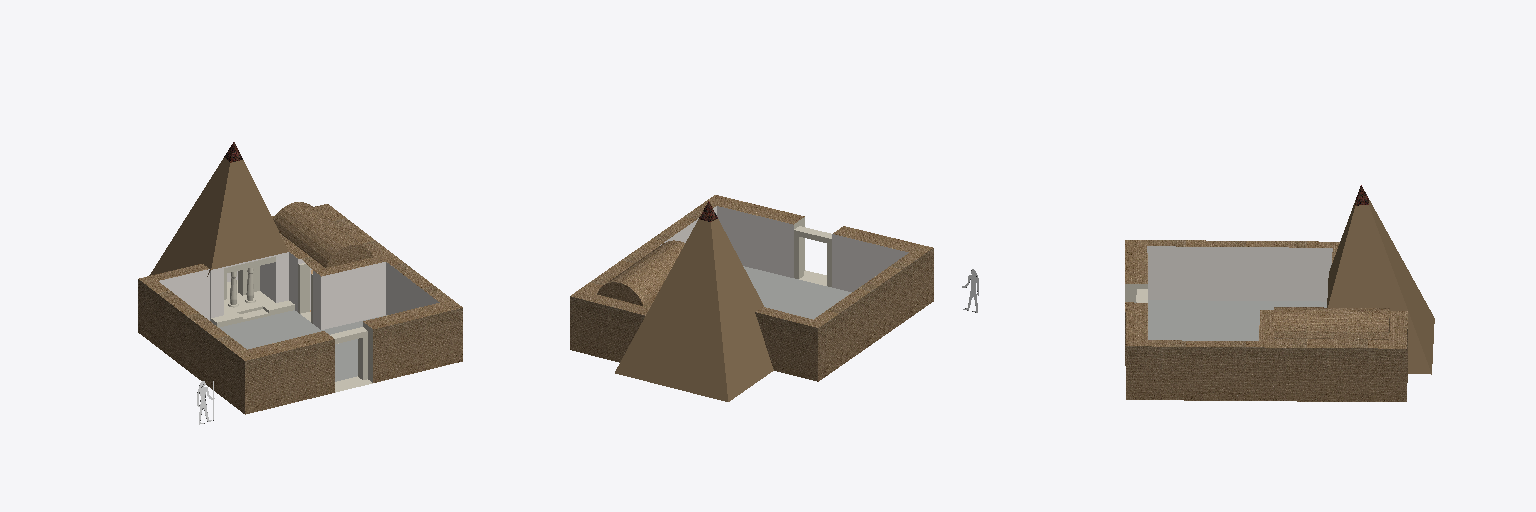
3 views of the same model, side by side, from view 1: azimuth 30°, elevation 25°; view 2: azimuth 150°, elevation 25°; view 3: azimuth 270°, elevation 25° (orthographic).
Parts seen in each view (by area): view 1: Mesh7 Model, Mesh1 Vault1 Model; view 2: Mesh7 Model, Mesh1 Vault1 Model; view 3: Mesh7 Model, Mesh1 Vault1 Model.
Boxes of the visible parts, box(x1,y1,x2,y2) form: Mesh7 Model: box(138, 142, 462, 414); Mesh1 Vault1 Model: box(273, 202, 373, 267); Mesh7 Model: box(570, 195, 933, 401); Mesh1 Vault1 Model: box(597, 240, 684, 305); Mesh7 Model: box(1125, 185, 1434, 401); Mesh1 Vault1 Model: box(1274, 307, 1389, 339).
Size of the model in its own units: 10.52 by 6 by 10.45.
Materials: 9 (3 with a texture image).